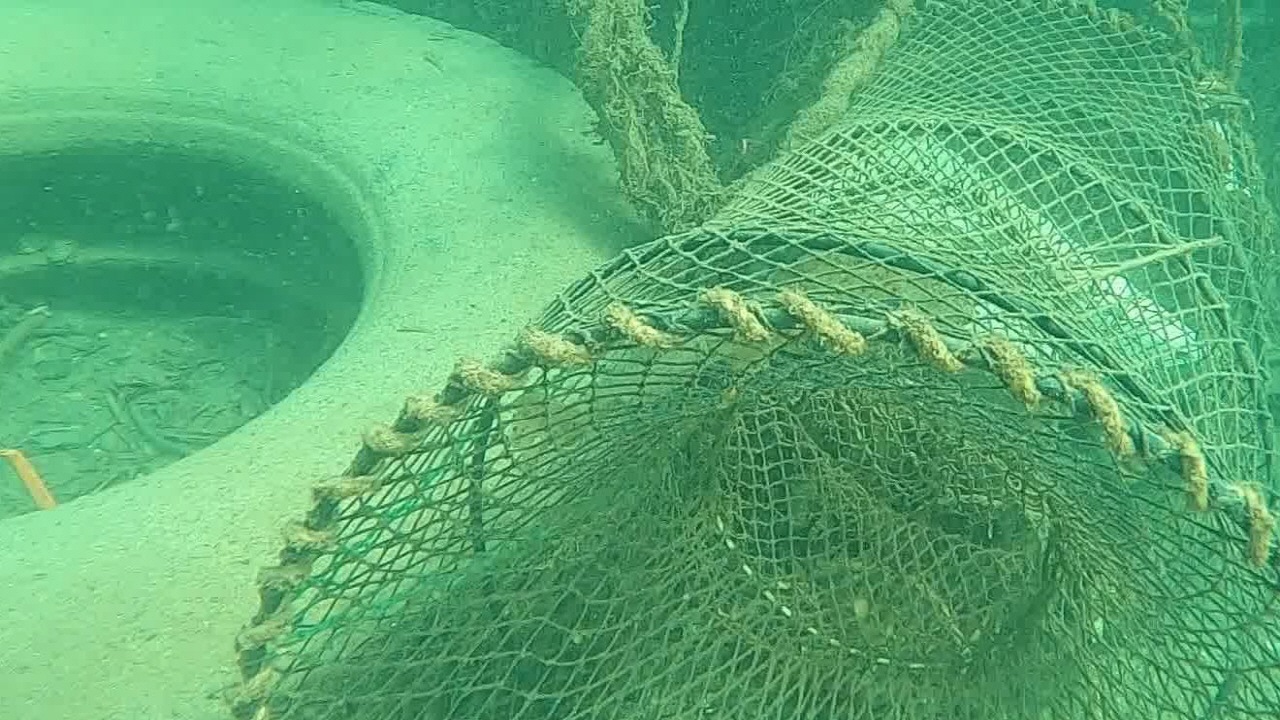rope: (789, 0, 908, 136)
spring fish trap: (228, 0, 1280, 720)
tire: (0, 0, 659, 720)
